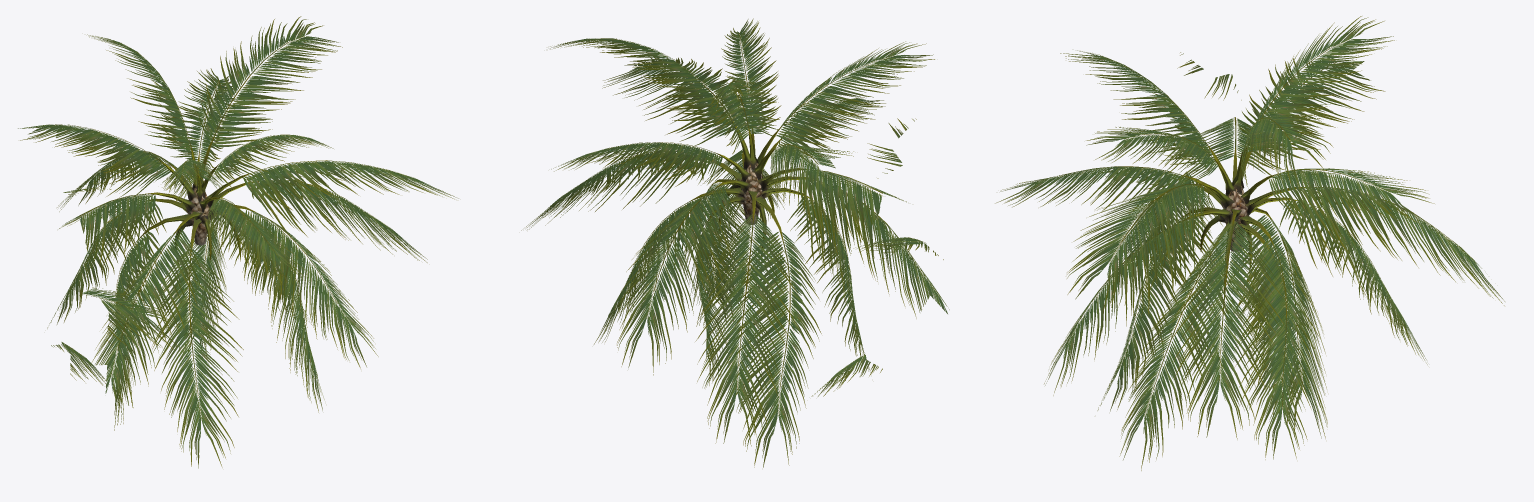
File: palm_crown.glb
3 renders of one model, left to right at view 1: azimuth 30°, elevation 25°; view 2: azimuth 150°, elevation 25°; view 3: azimuth 270°, elevation 25°, orthographic. The views are drawn at different scales.
Parts seen in each view (by area): view 1: Tree_2, Tree_3; view 2: Tree_2, Tree_3, Tree_1; view 3: Tree_2, Tree_3.
Part boxes in pixels (box(x1,y1,x2,y2)): Tree_2: box(18, 16, 458, 468); Tree_3: box(139, 135, 258, 263); Tree_2: box(521, 18, 949, 467); Tree_3: box(690, 116, 813, 255); Tree_1: box(740, 163, 762, 224); Tree_2: box(995, 16, 1504, 470); Tree_3: box(1181, 138, 1305, 291).
Size of the model in its own units: 3.52 by 3.54 by 3.92.
Materials: 3 (3 with a texture image).
